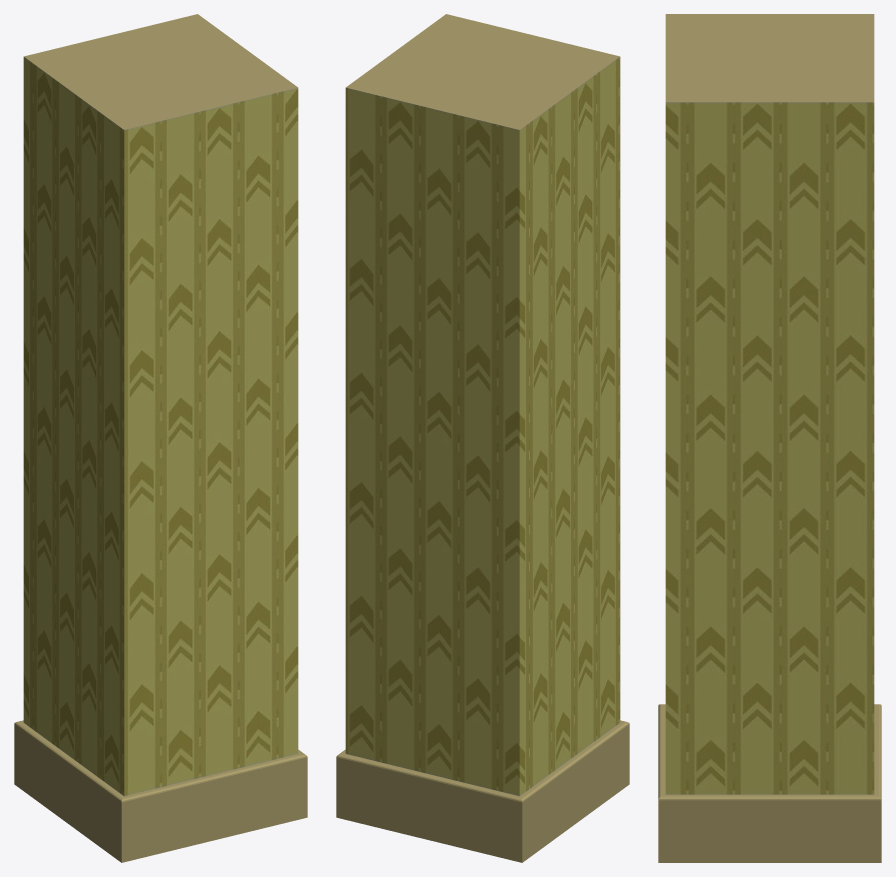
The model's file is Backrooms Tiles.fbx_Pillar-Half.fbx.
3 views of the same model, side by side, from view 1: azimuth 30°, elevation 25°; view 2: azimuth 150°, elevation 25°; view 3: azimuth 270°, elevation 25° (orthographic). The views are drawn at different scales.
Parts seen in each view (by area): view 1: Pillar-Half; view 2: Pillar-Half; view 3: Pillar-Half.
Boxes of the visible parts, box(x1,y1,x2,y2) form: Pillar-Half: box(14, 14, 307, 862); Pillar-Half: box(336, 14, 629, 862); Pillar-Half: box(658, 14, 881, 862).
Size of the model in its own units: 53.44 by 200 by 53.44.
